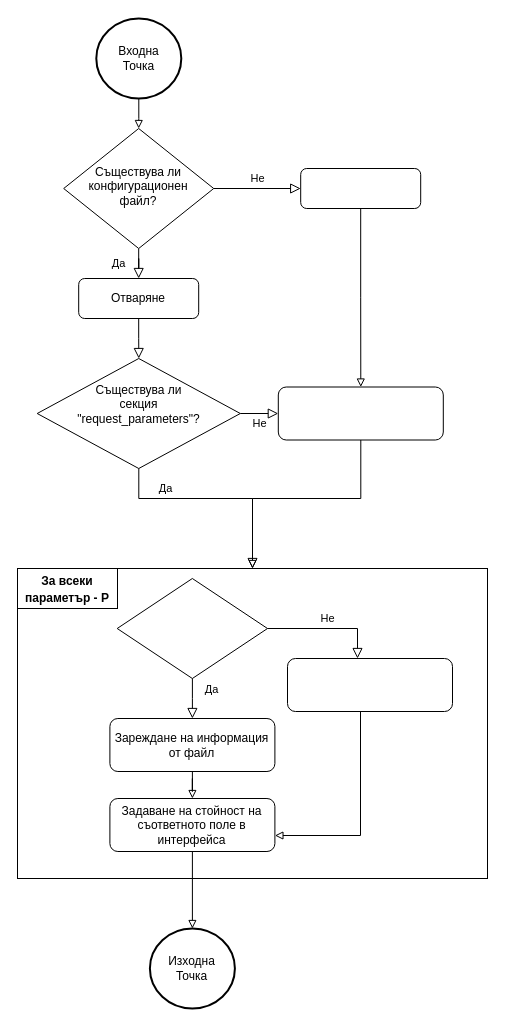
The diagram is 505 pixels wide and 1026 high, and some of its shapes have lost their labels. Each missing label, with the centre of its shape:
Зареждане на стойност по подразбиране: (369,685)
Създаване на нов: (360,188)
Създаване на нова секция с име "request_parameters": (360,413)
Съществува ли P ?: (192,628)
